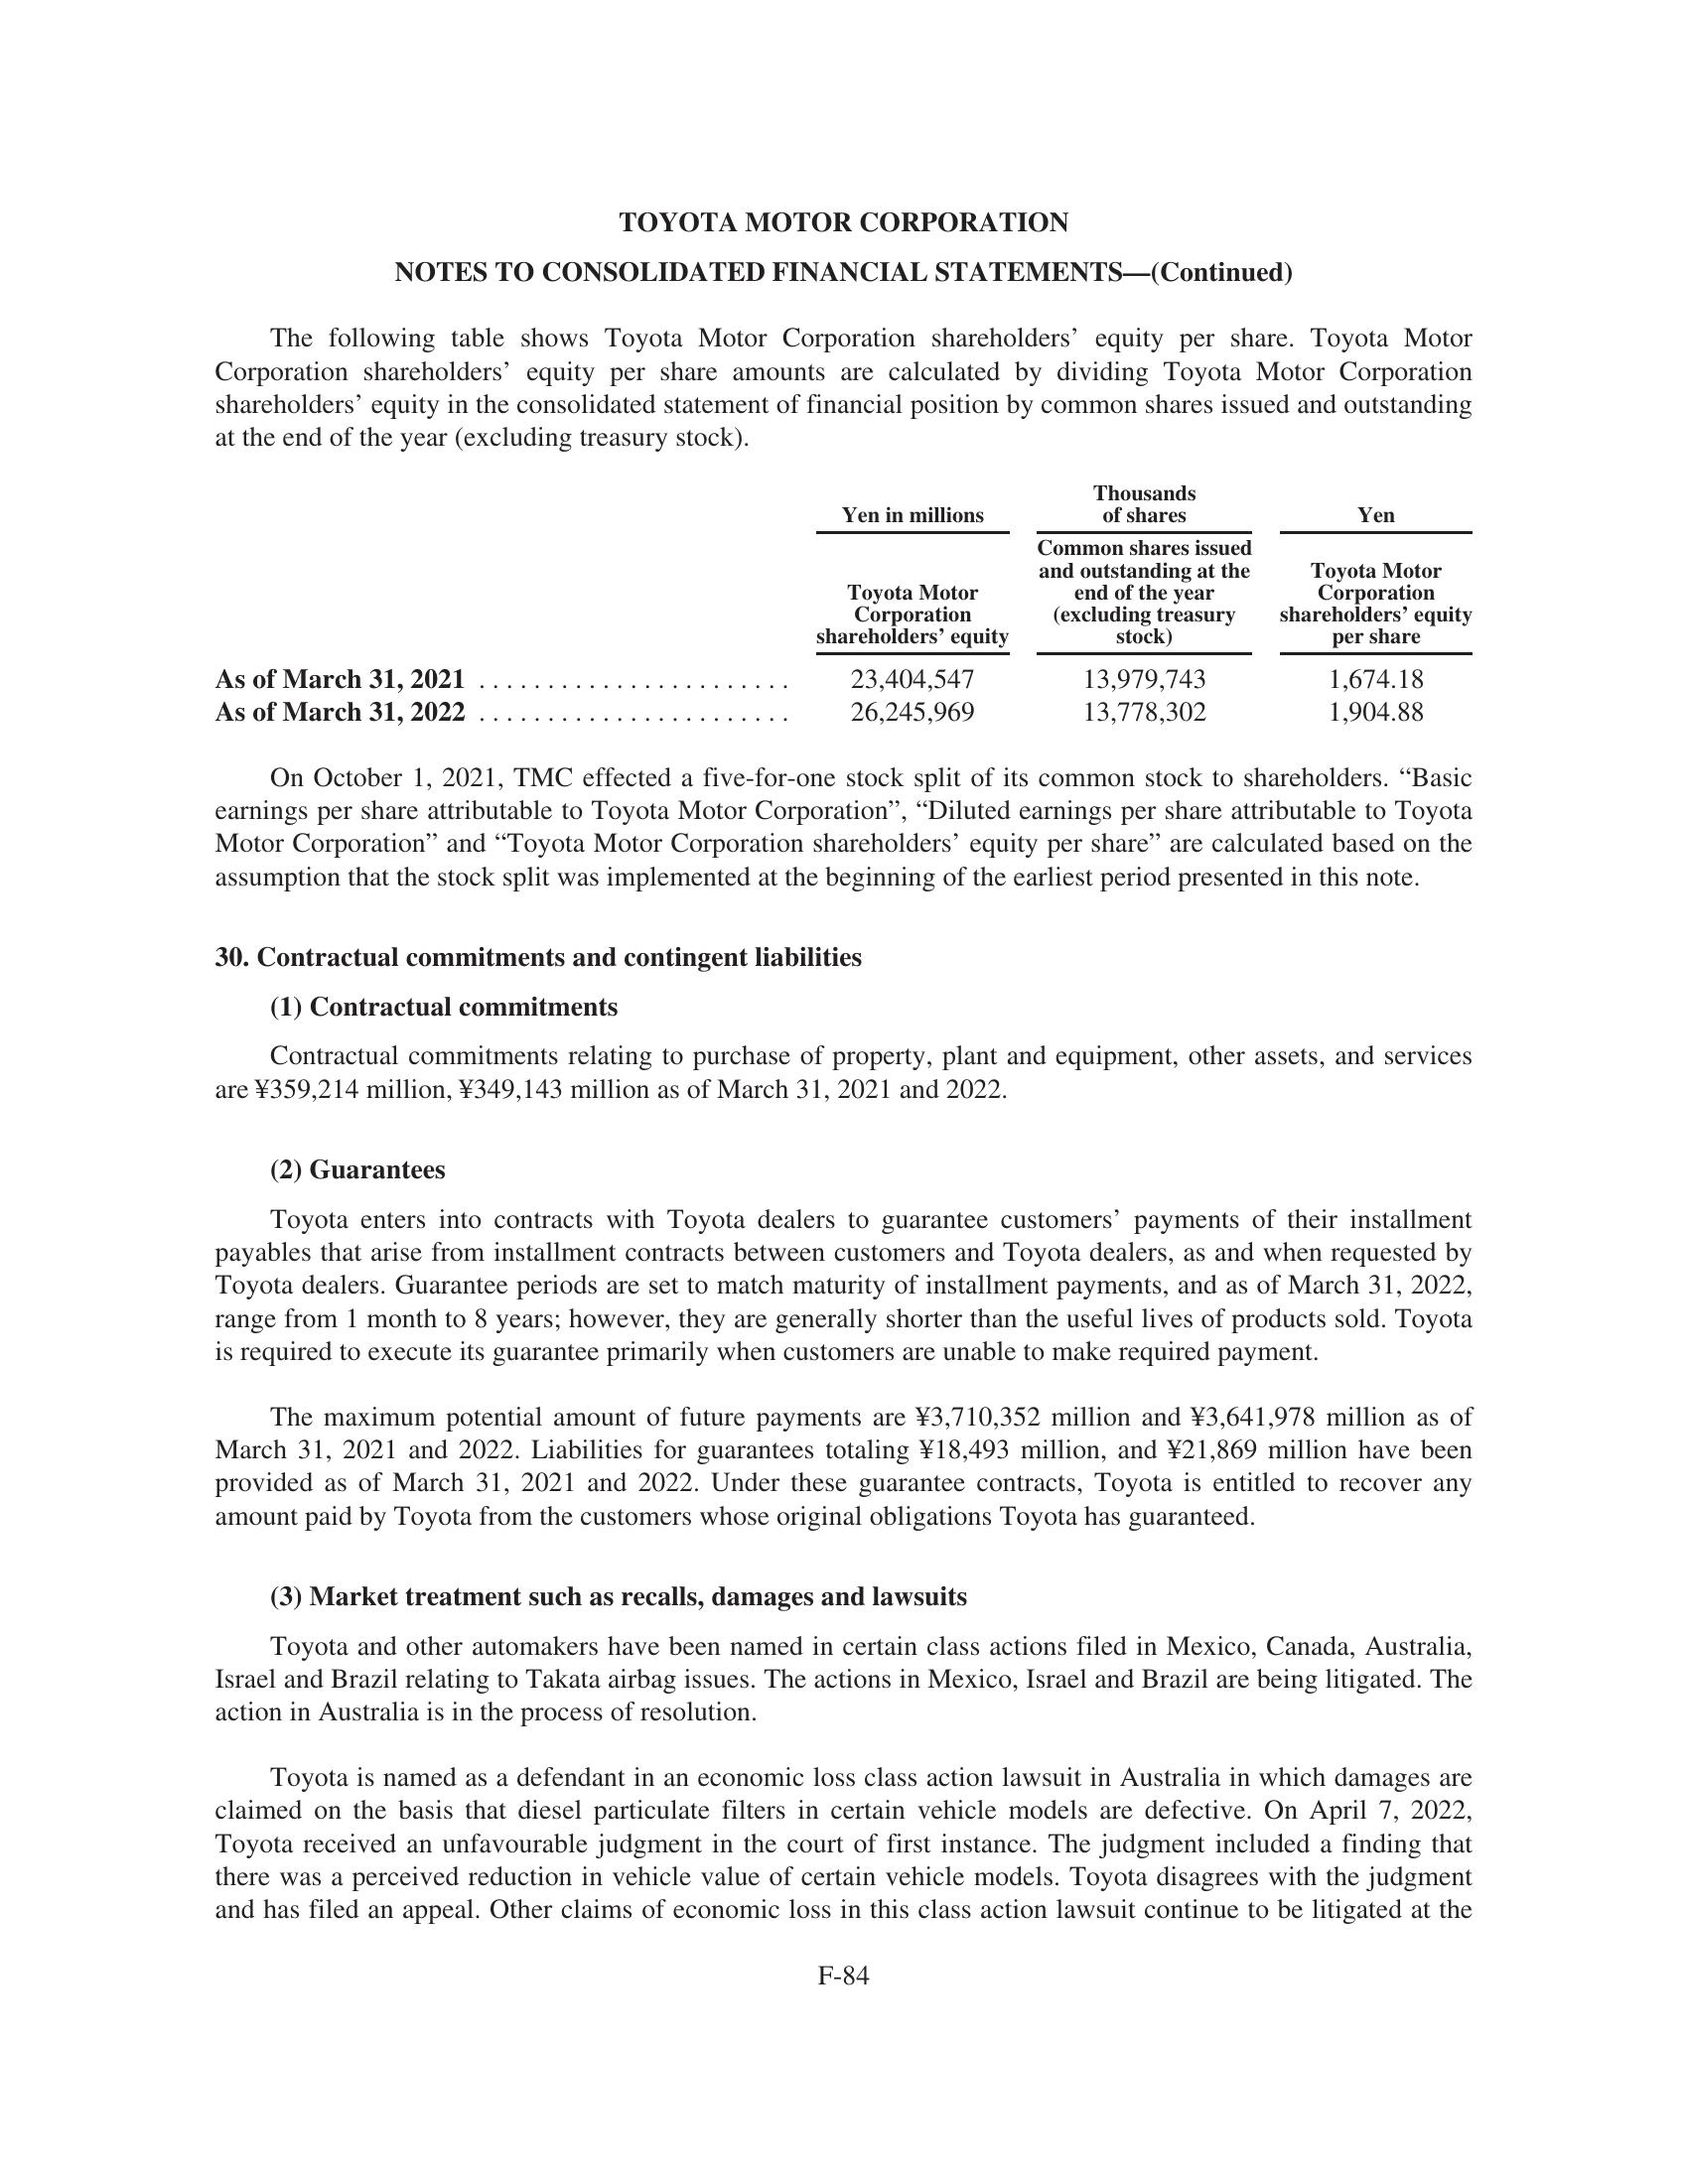Footer: (0, 1950, 1688, 2184)
Header: (0, 0, 1688, 175)
Table: (90, 468, 1491, 750)
